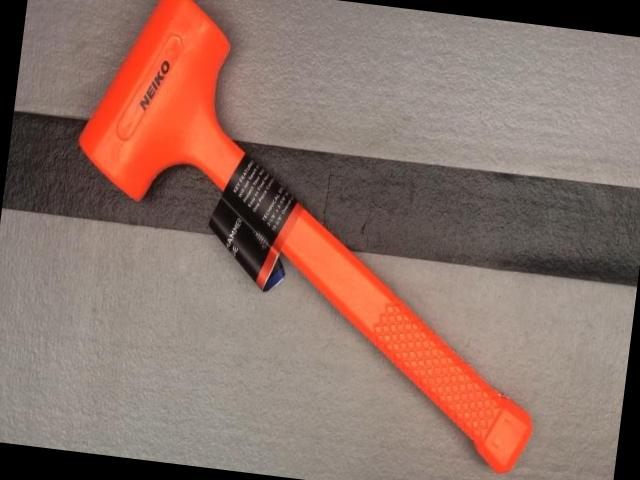hammer: (42, 0, 582, 478)
